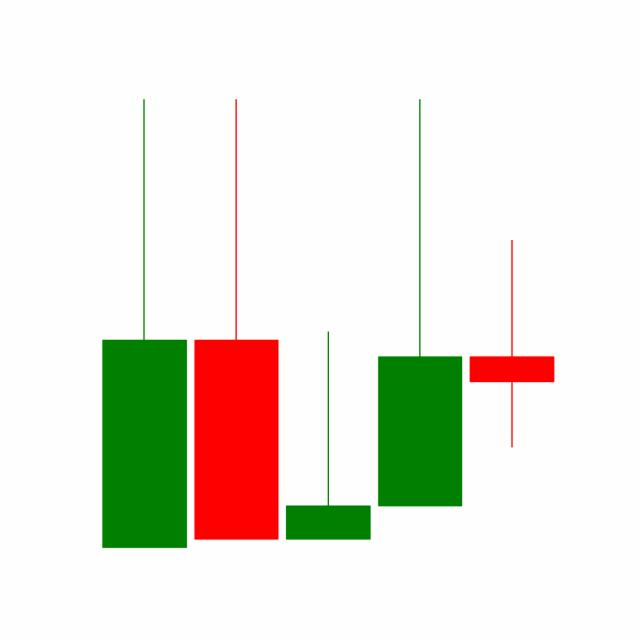Spinning Top: (464, 237, 558, 450)
